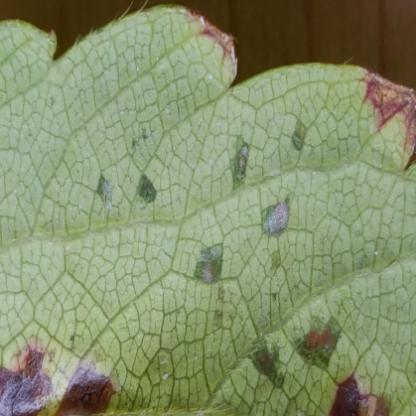Strawberry_Angular_LeafSpot: (0, 8, 415, 416)
